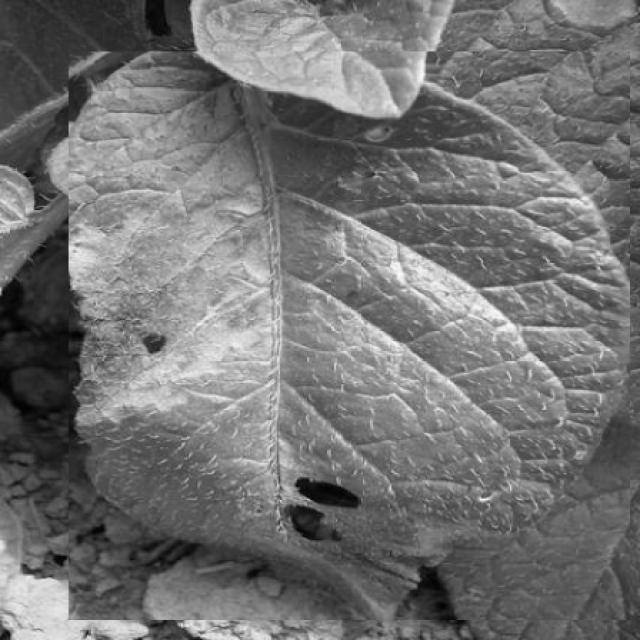Late Blight: (69, 51, 630, 620)
